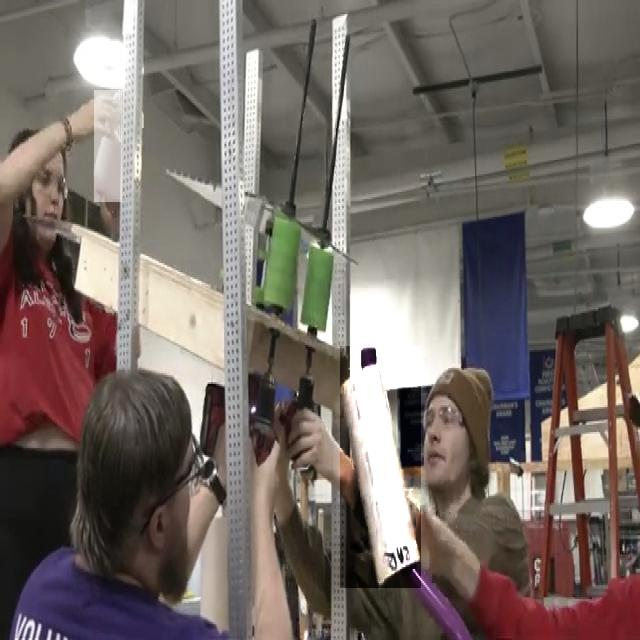Coral: (340, 346, 421, 588), (94, 90, 122, 202)
